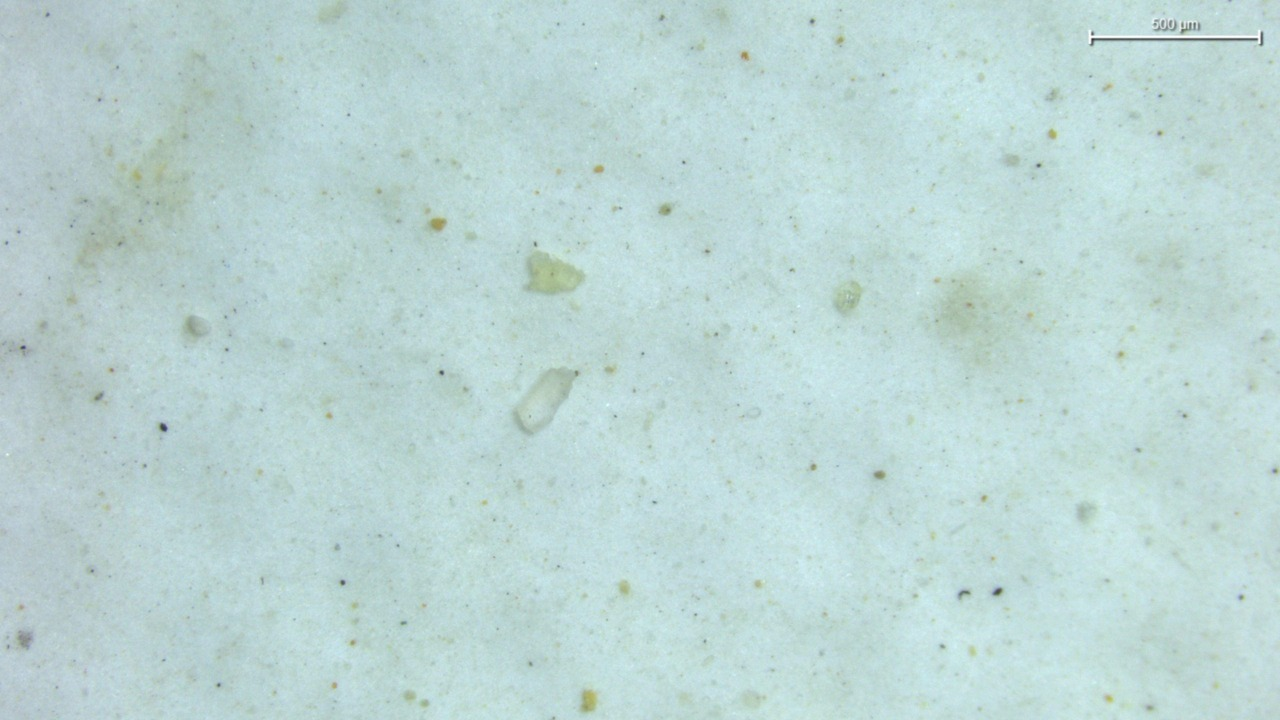microplastic_fragment: (515, 368, 577, 433), (527, 251, 584, 293)
